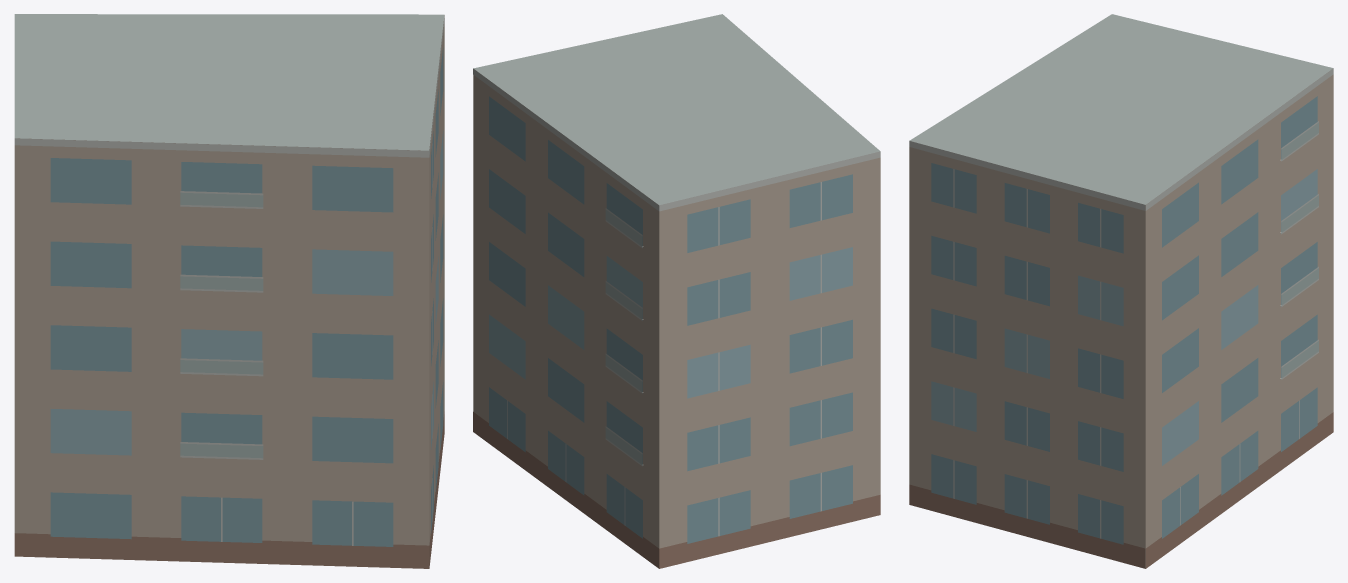
File: survey-upis-32735187.glb
The picture shows the model from 3 angles, left to right: view 1: azimuth 30°, elevation 25°; view 2: azimuth 150°, elevation 25°; view 3: azimuth 270°, elevation 25°; orthographic projection. The views are drawn at different scales.
Visible parts, largest first — view 1: survey-upis-32735187.tmp; view 2: survey-upis-32735187.tmp; view 3: survey-upis-32735187.tmp.
Boxes of the visible parts, x1=… form: survey-upis-32735187.tmp: x1=14, y1=14, x2=444, y2=568; survey-upis-32735187.tmp: x1=473, y1=14, x2=880, y2=568; survey-upis-32735187.tmp: x1=909, y1=14, x2=1333, y2=568.
Bounding box in the file's own units: 16.32 × 14.5 × 15.33.
